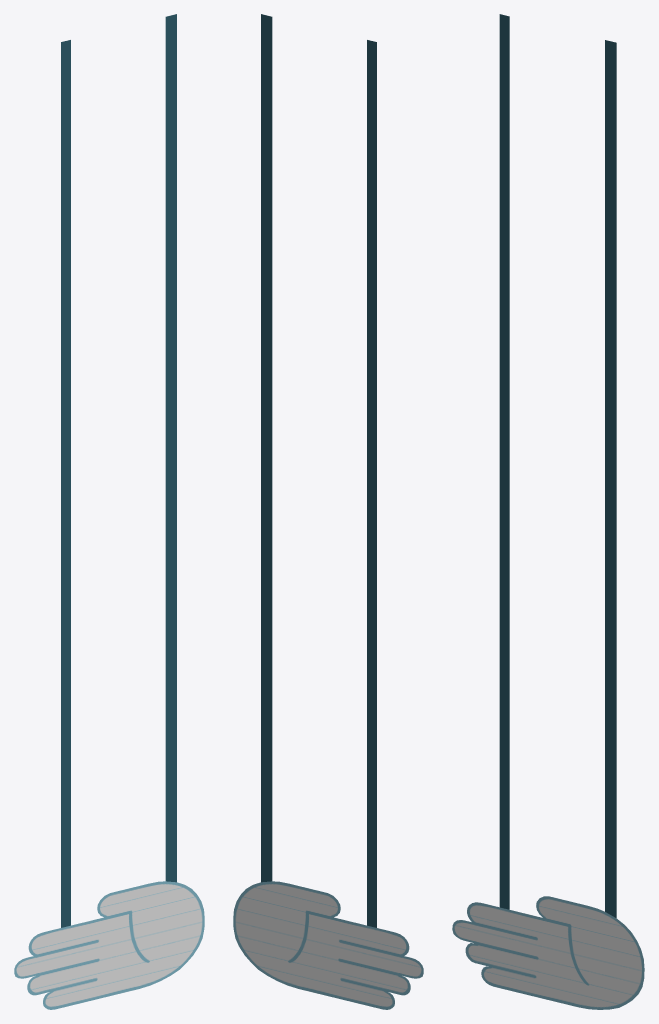
The model's file is hand.glb.
3 renders of one model, left to right at view 1: azimuth 30°, elevation 25°; view 2: azimuth 150°, elevation 25°; view 3: azimuth 330°, elevation 25°, orthographic.
Visible parts, largest first — view 1: Cube; view 2: Cube; view 3: Cube.
Boxes of the visible parts, left/top/right/bottom form: Cube: left=14, top=14, right=204, bottom=1009; Cube: left=233, top=14, right=423, bottom=1009; Cube: left=452, top=14, right=644, bottom=1009.
Size of the model in its own units: 6.9 by 33.45 by 0.00281.
1 material, 1 textured.
